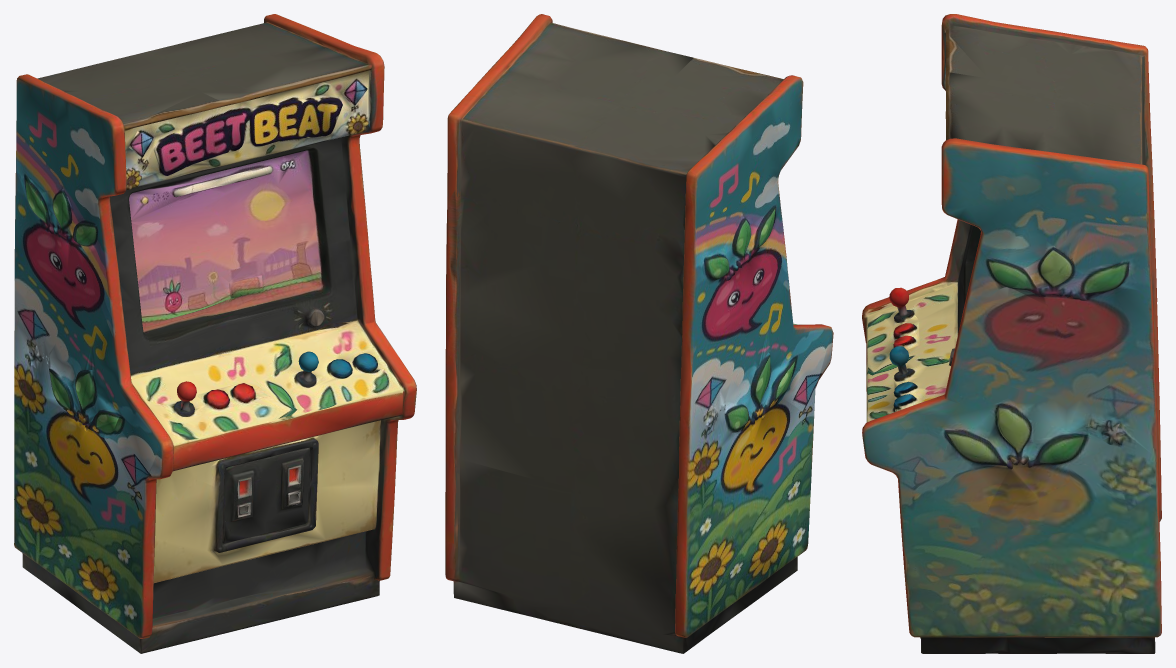
Rendered from cab_beat.glb.
The picture shows the model from 3 angles, left to right: view 1: azimuth 30°, elevation 25°; view 2: azimuth 150°, elevation 25°; view 3: azimuth 270°, elevation 25°; orthographic projection. The views are drawn at different scales.
Parts seen in each view (by area): view 1: tripo_node_e163c5d1-ff74-464a-b4f5-fe95ffc8e0c8; view 2: tripo_node_e163c5d1-ff74-464a-b4f5-fe95ffc8e0c8; view 3: tripo_node_e163c5d1-ff74-464a-b4f5-fe95ffc8e0c8.
Boxes of the visible parts, bbox=[...] form: tripo_node_e163c5d1-ff74-464a-b4f5-fe95ffc8e0c8: bbox=[14, 14, 416, 653]; tripo_node_e163c5d1-ff74-464a-b4f5-fe95ffc8e0c8: bbox=[445, 14, 833, 653]; tripo_node_e163c5d1-ff74-464a-b4f5-fe95ffc8e0c8: bbox=[862, 14, 1161, 653].
Bounding box in the file's own units: 0.5285 × 0.9788 × 0.5125.
1 material, 1 textured.
